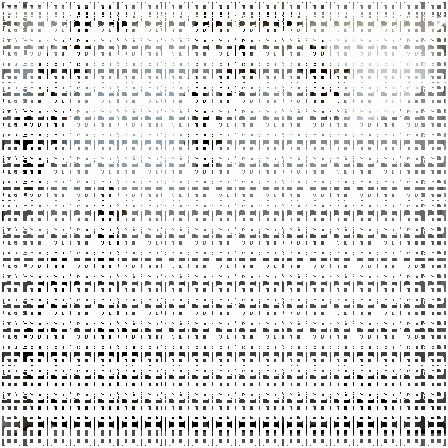bee: (280, 28, 364, 124), (73, 168, 131, 284), (174, 61, 228, 179), (78, 301, 153, 378), (323, 354, 398, 431), (21, 232, 79, 331), (25, 42, 75, 146), (214, 19, 268, 114), (6, 97, 54, 200), (10, 319, 68, 388), (55, 3, 99, 89), (176, 5, 241, 55)
